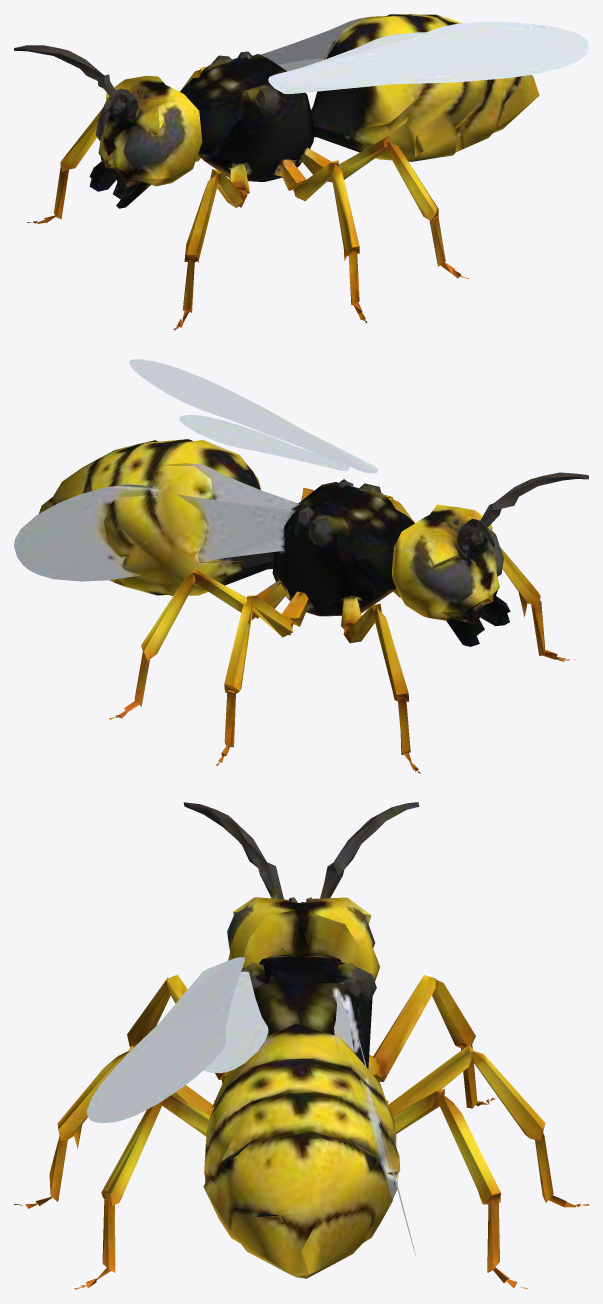
File: bee.glb
The picture shows the model from 3 angles, top to bottom: view 1: azimuth 30°, elevation 25°; view 2: azimuth 150°, elevation 25°; view 3: azimuth 270°, elevation 25°; orthographic projection. The views are drawn at different scales.
Parts seen in each view (by area): view 1: bee; view 2: bee; view 3: bee.
Part boxes in pixels (<box>): bee: <box>14,14,588,330</box>; bee: <box>14,359,588,773</box>; bee: <box>14,802,588,1289</box>.
Size of the model in its own units: 0.0799 by 0.0353 by 0.0635.
1 material, 1 textured.
